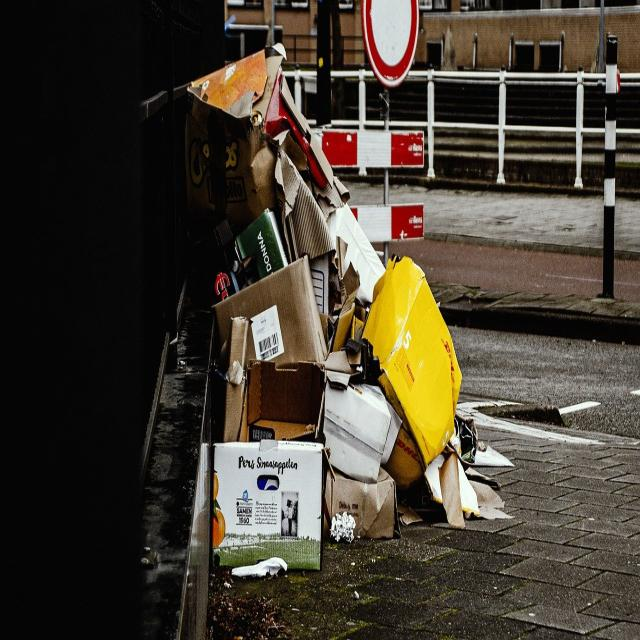garbage: (172, 36, 480, 576)
